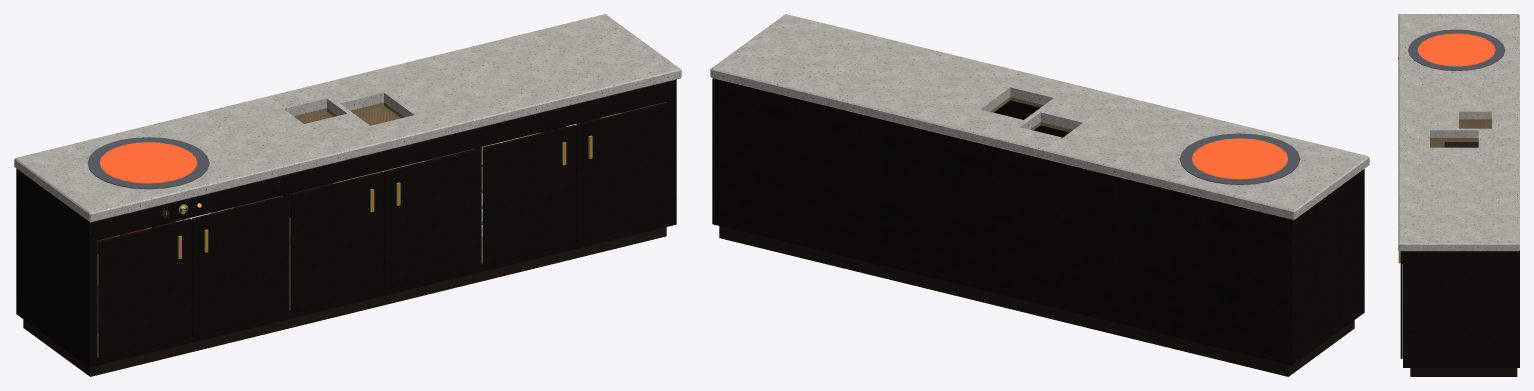
File: warmer.glb
3 renders of one model, left to right at view 1: azimuth 30°, elevation 25°; view 2: azimuth 150°, elevation 25°; view 3: azimuth 270°, elevation 25°, orthographic. The views are drawn at different scales.
Visible parts, largest first — view 1: WarmerBody, WarmerDoor4, WarmerDoor1, WarmerDoor2, WarmerDoor5, WarmerDoor0, WarmerDoor3, WarmerWells, WarmerStores; view 2: WarmerBody, WarmerWells, WarmerDoor3; view 3: WarmerBody, WarmerWells, WarmerDoor5, WarmerStores.
Part boxes in pixels (box(x1,y1,x2,y2)): WarmerBody: box(14, 14, 681, 376); WarmerDoor4: box(482, 125, 576, 265); WarmerDoor1: box(192, 196, 285, 336); WarmerDoor2: box(290, 171, 383, 312); WarmerDoor5: box(576, 102, 669, 242); WarmerDoor0: box(98, 218, 191, 359); WarmerDoor3: box(384, 149, 477, 289); WarmerWells: box(87, 137, 209, 189); WarmerStores: box(97, 118, 600, 333); WarmerBody: box(710, 14, 1369, 376); WarmerWells: box(1179, 133, 1300, 184); WarmerDoor3: box(994, 103, 1069, 137); WarmerBody: box(1398, 14, 1519, 376); WarmerWells: box(1408, 29, 1505, 70); WarmerDoor5: box(1398, 251, 1402, 358); WarmerStores: box(1444, 142, 1478, 147).
Bounding box in the file's own units: 4.48 × 1.24 × 1.
Materials: 14 (5 with a texture image).
